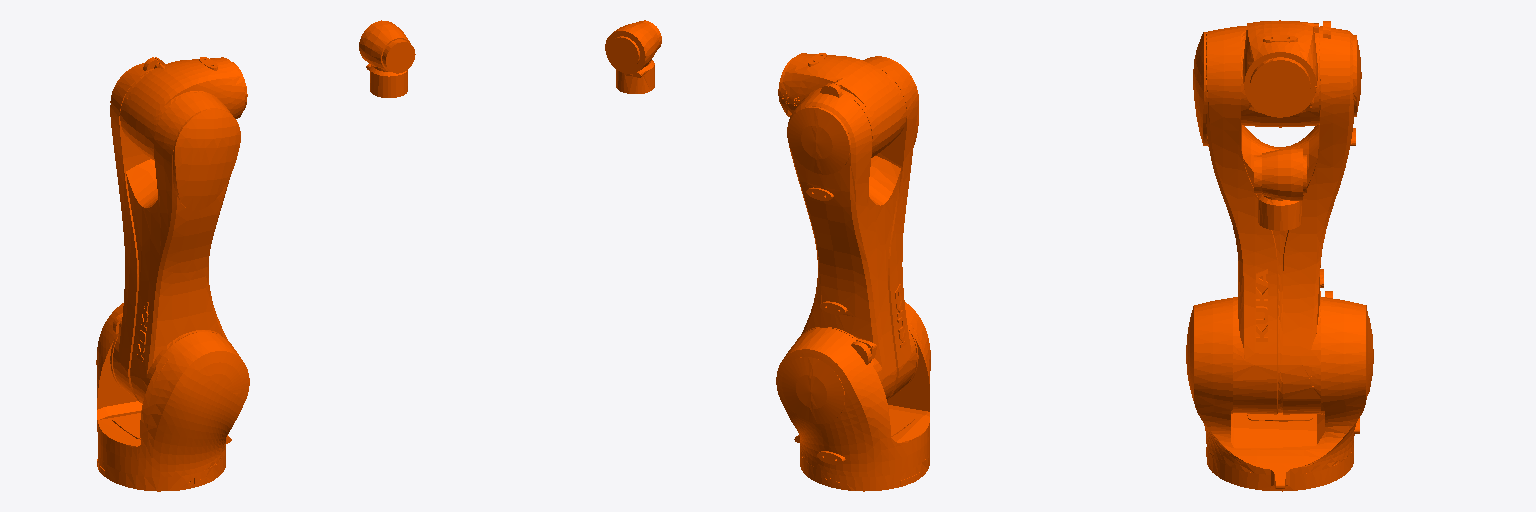
URDF robot description (kuka_kr6_r900_fivve):
<?xml version="1.0"?>
<robot name="kuka_kr6_r900_fivve">
  <material name="kuka_orange"><color rgba="1.00 0.40 0.00 1.0"/></material>
  <material name="kuka_dark_gray"><color rgba="0.20 0.20 0.20 1.0"/></material>

  <link name="base_link">
    <inertial>
      <origin xyz="-0.051268 0.000224 0.106933" rpy="0 0 0"/>
      <mass value="10.667"/>
      <inertia ixx="0.078972" ixy="0.000417" ixz="0.000532" iyy="0.114565" iyz="-0.000045" izz="0.102182"/>
    </inertial>
    <visual>
      <origin xyz="0 0 0" rpy="0 0 0"/>
      <geometry><mesh filename="meshes/visual/base_link.stl"/></geometry>
      <material name="kuka_dark_gray"/>
    </visual>
    <collision>
      <origin xyz="0 0 0" rpy="0 0 0"/>
      <geometry><mesh filename="meshes/visual/base_link.stl"/></geometry>
    </collision>
  </link>

  <link name="link_1">
    <inertial>
      <origin xyz="0.008178 0.005134 0.334135" rpy="0 0 0"/>
      <mass value="26.900"/>
      <inertia ixx="0.251488" ixy="-0.000809" ixz="-0.013361" iyy="0.189169" iyz="-0.005989" izz="0.198369"/>
    </inertial>
    <visual>
      <origin xyz="0 0 0" rpy="0 0 0"/>
      <geometry><mesh filename="meshes/visual/link_1.stl"/></geometry>
      <material name="kuka_orange"/>
    </visual>
    <collision>
      <origin xyz="0 0 0" rpy="0 0 0"/>
      <geometry><mesh filename="meshes/visual/link_1.stl"/></geometry>
    </collision>
  </link>

  <link name="link_2">
    <inertial>
      <origin xyz="-0.005429 -0.002848 0.230641" rpy="0 0 0"/>
      <mass value="37.950"/>
      <inertia ixx="0.955051" ixy="-0.000095" ixz="0.001109" iyy="0.905232" iyz="-0.005032" izz="0.193267"/>
    </inertial>
    <visual>
      <origin xyz="0 0 0" rpy="0 0 0"/>
      <geometry><mesh filename="meshes/visual/link_2.stl"/></geometry>
      <material name="kuka_orange"/>
    </visual>
    <collision>
      <origin xyz="0 0 0" rpy="0 0 0"/>
      <geometry><mesh filename="meshes/visual/link_2.stl"/></geometry>
    </collision>
  </link>

  <link name="link_3">
    <inertial>
      <origin xyz="0.018554 0.000314 0.011115" rpy="0 0 0"/>
      <mass value="24.900"/>
      <inertia ixx="0.094911" ixy="-0.000167" ixz="-0.009690" iyy="0.113424" iyz="-0.000165" izz="0.107848"/>
    </inertial>
    <visual>
      <origin xyz="0 0 0" rpy="0 0 0"/>
      <geometry><mesh filename="meshes/visual/link_3.stl"/></geometry>
      <material name="kuka_orange"/>
    </visual>
    <collision>
      <origin xyz="0 0 0" rpy="0 0 0"/>
      <geometry><mesh filename="meshes/visual/link_3.stl"/></geometry>
    </collision>
  </link>

  <link name="link_4">
    <inertial>
      <origin xyz="-0.145444 0.000704 0.002306" rpy="0 0 0"/>
      <mass value="6.140"/>
      <inertia ixx="0.017404" ixy="-0.000268" ixz="0.000587" iyy="0.050825" iyz="0.000174" izz="0.052632"/>
    </inertial>
    <visual>
      <origin xyz="0 0 0" rpy="0 0 0"/>
      <geometry><mesh filename="meshes/visual/link_4.stl"/></geometry>
      <material name="kuka_orange"/>
    </visual>
    <collision>
      <origin xyz="0 0 0" rpy="0 0 0"/>
      <geometry><mesh filename="meshes/visual/link_4.stl"/></geometry>
    </collision>
  </link>

  <link name="link_5">
    <inertial>
      <origin xyz="-0.000099 0.001846 -0.020435" rpy="0 0 0"/>
      <mass value="9.240"/>
      <inertia ixx="0.019935" ixy="0.000013" ixz="-0.000030" iyy="0.019179" iyz="-0.000297" izz="0.015744"/>
    </inertial>
    <visual>
      <origin xyz="0 0 0" rpy="0 0 0"/>
      <geometry><mesh filename="meshes/visual/link_5.stl"/></geometry>
      <material name="kuka_orange"/>
    </visual>
    <collision>
      <origin xyz="0 0 0" rpy="0 0 0"/>
      <geometry><mesh filename="meshes/visual/link_5.stl"/></geometry>
    </collision>
  </link>

  <link name="link_6">
    <inertial>
      <origin xyz="-0.000095 -0.000001 0.006573" rpy="0 0 0"/>
      <mass value="8.750"/>
      <inertia ixx="0.009497" ixy="-0.000025" ixz="0.000001" iyy="0.009520" iyz="-0.000000" izz="0.010037"/>
    </inertial>
    <visual>
      <origin xyz="0 0 0" rpy="0 0 0"/>
      <geometry><mesh filename="meshes/visual/link_6.stl"/></geometry>
      <material name="kuka_dark_gray"/>
    </visual>
    <collision>
      <origin xyz="0 0 0" rpy="0 0 0"/>
      <geometry><mesh filename="meshes/visual/link_6.stl"/></geometry>
    </collision>
  </link>

  <link name="tool0"/>

  <joint name="joint_a1" type="revolute">
    <parent link="base_link"/>
    <child link="link_1"/>
    <origin xyz="0.000000 0.000000 0.000000" rpy="0 0 0"/>
    <axis xyz="0.0 0.0 -1.0"/>
    <limit lower="-2.967060" upper="2.967060" effort="372.0" velocity="6.283185"/>
    <dynamics damping="5.0" friction="1.0"/>
  </joint>

  <joint name="joint_a2" type="revolute">
    <parent link="link_1"/>
    <child link="link_2"/>
    <origin xyz="0.025000 0.000000 0.400000" rpy="0 0 0"/>
    <axis xyz="0.0 1.0 0.0"/>
    <limit lower="-1.675516" upper="2.356194" effort="300.0" velocity="5.235988"/>
    <dynamics damping="5.0" friction="1.0"/>
  </joint>

  <joint name="joint_a3" type="revolute">
    <parent link="link_2"/>
    <child link="link_3"/>
    <origin xyz="0.000000 0.000000 0.455000" rpy="0 0 0"/>
    <axis xyz="0.0 1.0 0.0"/>
    <limit lower="-1.570796" upper="1.151917" effort="169.1" velocity="6.283185"/>
    <dynamics damping="5.0" friction="1.0"/>
  </joint>

  <joint name="joint_a4" type="revolute">
    <parent link="link_3"/>
    <child link="link_4"/>
    <origin xyz="0.420000 0.000000 0.035000" rpy="0 0 0"/>
    <axis xyz="-1.0 0.0 -0.0"/>
    <limit lower="-3.228859" upper="3.228859" effort="115.6" velocity="6.652784"/>
    <dynamics damping="5.0" friction="1.0"/>
  </joint>

  <joint name="joint_a5" type="revolute">
    <parent link="link_4"/>
    <child link="link_5"/>
    <origin xyz="0.000000 0.000000 0.000000" rpy="0 0 0"/>
    <axis xyz="0.0 1.0 0.0"/>
    <limit lower="-3.508112" upper="0.523599" effort="43.6" velocity="6.777885"/>
    <dynamics damping="5.0" friction="1.0"/>
  </joint>

  <joint name="joint_a6" type="revolute">
    <parent link="link_5"/>
    <child link="link_6"/>
    <origin xyz="0.000000 0.000000 -0.080000" rpy="0 0 0"/>
    <axis xyz="-0.0 -0.0 1.0"/>
    <limit lower="-6.108652" upper="6.108652" effort="23.3" velocity="10.735303"/>
    <dynamics damping="5.0" friction="1.0"/>
  </joint>

  <joint name="link_6-tool0" type="fixed">
    <parent link="link_6"/>
    <child link="tool0"/>
    <origin xyz="0.000000 0.000000 0.000000" rpy="0 1.57079632679 0"/>
  </joint>
</robot>

--- What the picture shows (computed from the rendered views, not written in the file) ---
Views: 3 orthographic renders of the robot side by side, from view 1: azimuth 30°, elevation 25°; view 2: azimuth 150°, elevation 25°; view 3: azimuth 270°, elevation 25°.
Model kuka_kr6_r900_fivve with 8 links and 7 joints (6 revolute, 1 fixed), rooted at base_link, posed every joint at zero.
Links seen in each view (by area): view 1: link_2, link_1, link_3, link_5; view 2: link_2, link_1, link_3, link_5; view 3: link_2, link_1, link_3, link_5.
Boxes of the visible links, x1,y1,x2,y2 form: link_2: [110, 57, 240, 403]; link_1: [96, 303, 249, 491]; link_3: [120, 57, 247, 160]; link_5: [359, 20, 415, 97]; link_2: [787, 56, 918, 400]; link_1: [776, 302, 930, 491]; link_3: [778, 53, 906, 157]; link_5: [605, 20, 661, 93]; link_2: [1193, 21, 1361, 414]; link_1: [1186, 291, 1373, 491]; link_3: [1241, 20, 1318, 127]; link_5: [1254, 148, 1306, 230].
Bounding box of the posed robot: 0.5943 × 0.2769 × 0.7305 m (x, y, z).
Meshes: 7 distinct files referenced, 5 mesh visuals loaded (5 binary STL); not drawn: 2 (reference not matched to a file when rendering).
